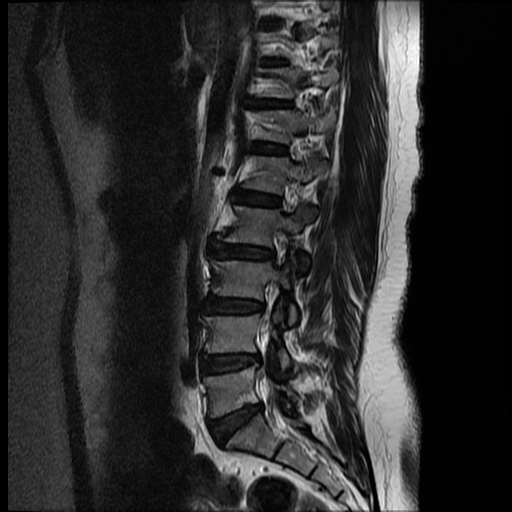RFS0: (260, 220, 295, 278), (265, 171, 301, 218)
